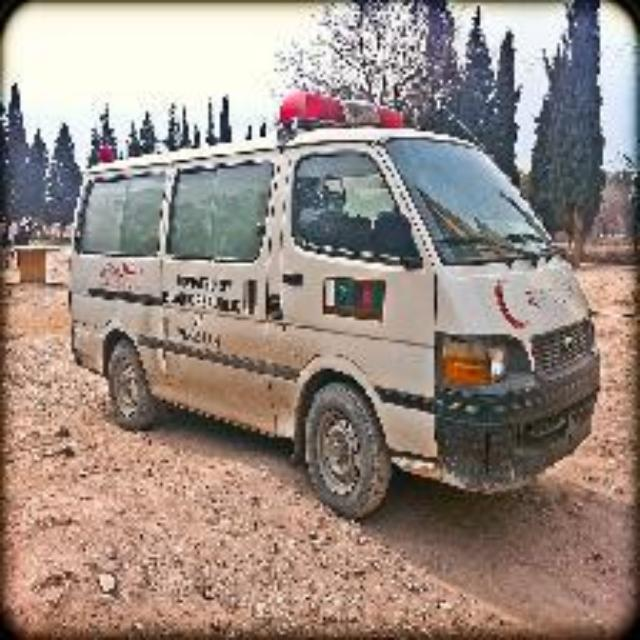emergency: (67, 90, 603, 518)
